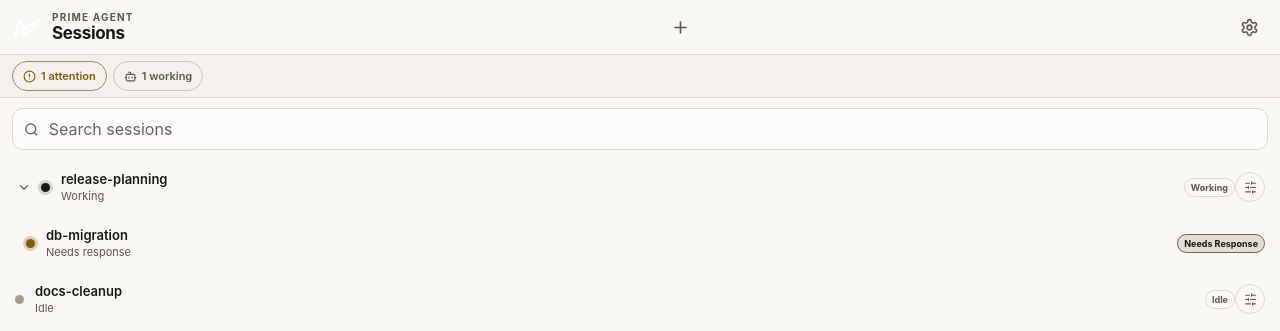
AgentsPanel › shows an empty state when no session matches the search
Type "nonexistent-agent-name" into the field with placeholder "Search sessions".
click(651, 129); type("nonexistent-agent-name")  # box [47,109,1256,149]
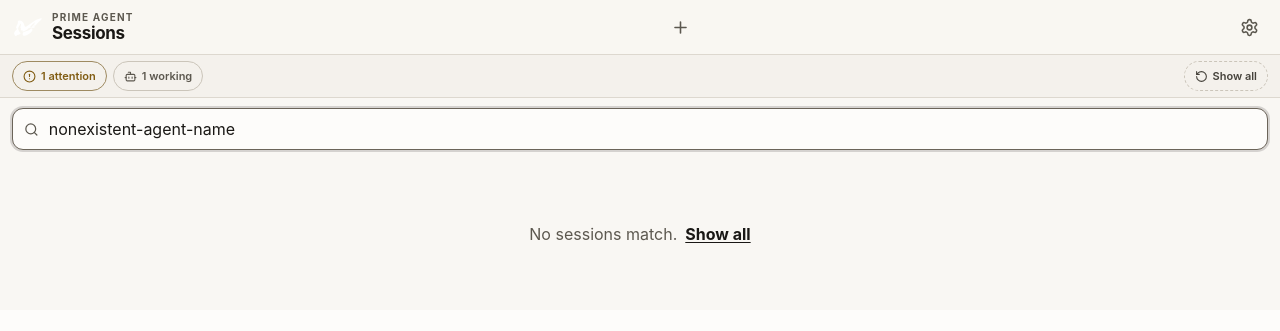
Expected: the text "No sessions match. Show all" is shown, [529,224,751,244]
Click the button "Show all" next to "No sessions match.".
click(718, 234)  # box [685,224,751,244]
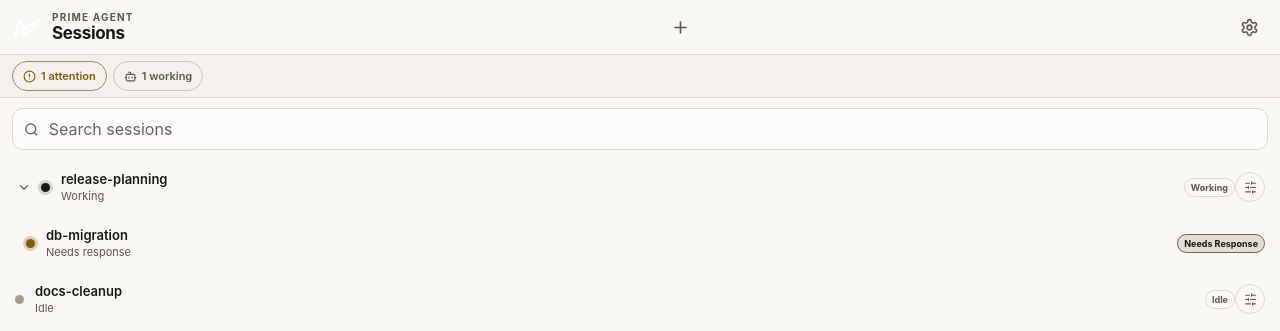
Expected: the text "No sessions match." is gone
